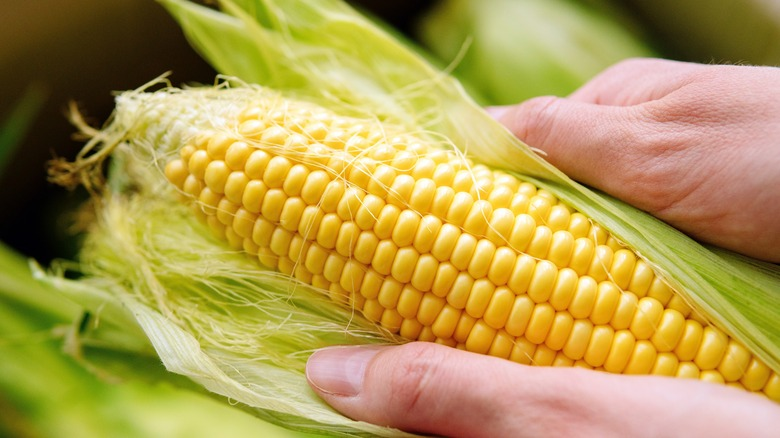corn: (82, 81, 773, 408)
